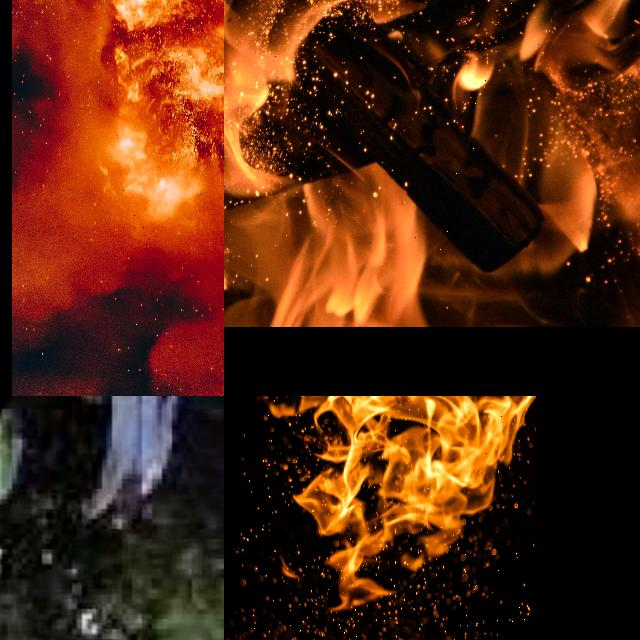fire: (224, 0, 640, 274), (12, 0, 224, 396), (292, 396, 536, 608)
